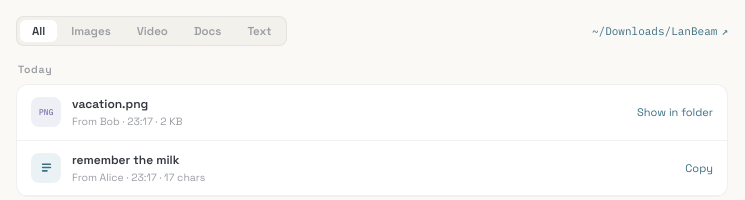
Test: InboxPage category filter › keeps only text items when the Text segment is chosen
The image size is (745, 200).
Expected: the text "vacation.png" is shown, [72,96,148,112]
Expected: the text "remember the milk" is shown, [72,152,180,168]
Click the button "Text". click: (259, 31)
box: [235,20,283,42]
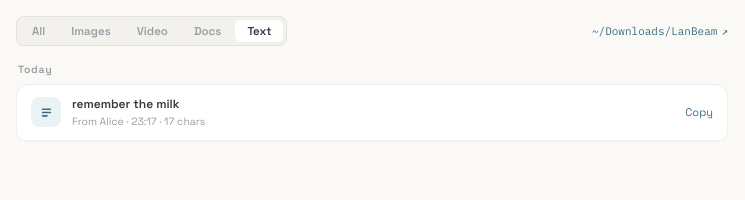
Expected: the text "remember the milk" is shown, [72,96,180,112]
Expected: the button "vacation.png" is gone
